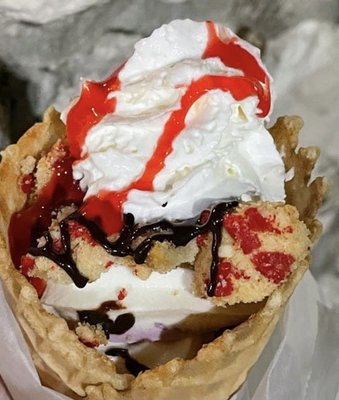sandwich: (0, 11, 326, 397)
sushi: (0, 11, 326, 397)
